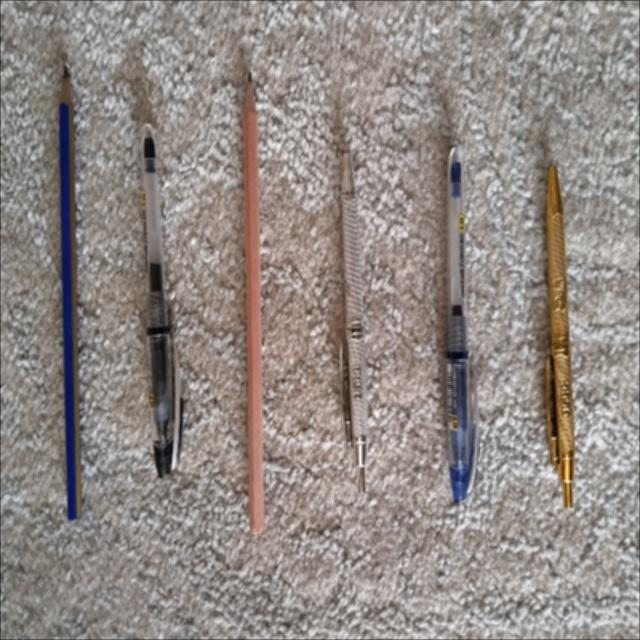pen: (142, 125, 181, 476), (447, 147, 476, 502)
pencil: (59, 66, 81, 519), (243, 74, 263, 533)
signature pen: (546, 166, 574, 507), (339, 151, 367, 491)
